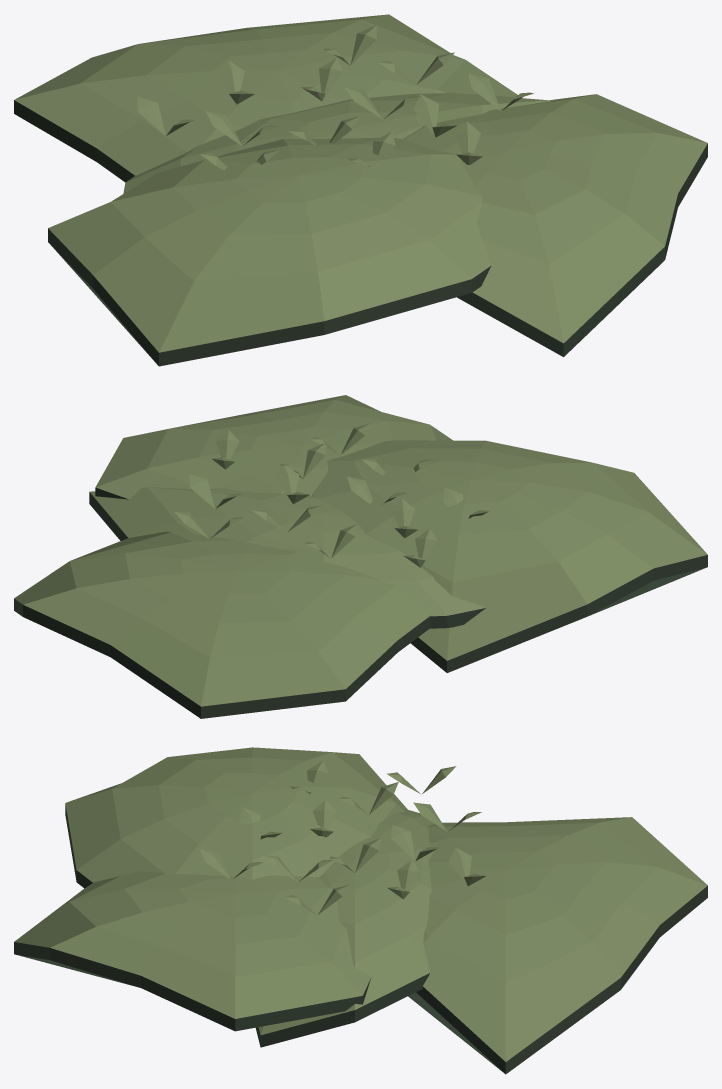
Rendered from CUSHION_MOSS.lo.glb.
3 renders of one model, top to bottom at view 1: azimuth 30°, elevation 25°; view 2: azimuth 150°, elevation 25°; view 3: azimuth 270°, elevation 25°, orthographic. The views are drawn at different scales.
Parts seen in each view (by area): view 1: CUSHION_MOSS; view 2: CUSHION_MOSS; view 3: CUSHION_MOSS.
Part boxes in pixels (box(x1,y1,x2,y2)): CUSHION_MOSS: box(14, 14, 707, 366); CUSHION_MOSS: box(14, 395, 707, 718); CUSHION_MOSS: box(14, 747, 707, 1074).
Bounding box in the file's own units: 0.4126 × 0.0919 × 0.4586.
1 material, 1 textured.
